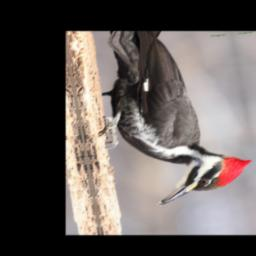Woodpecker: (86, 32, 256, 212)
